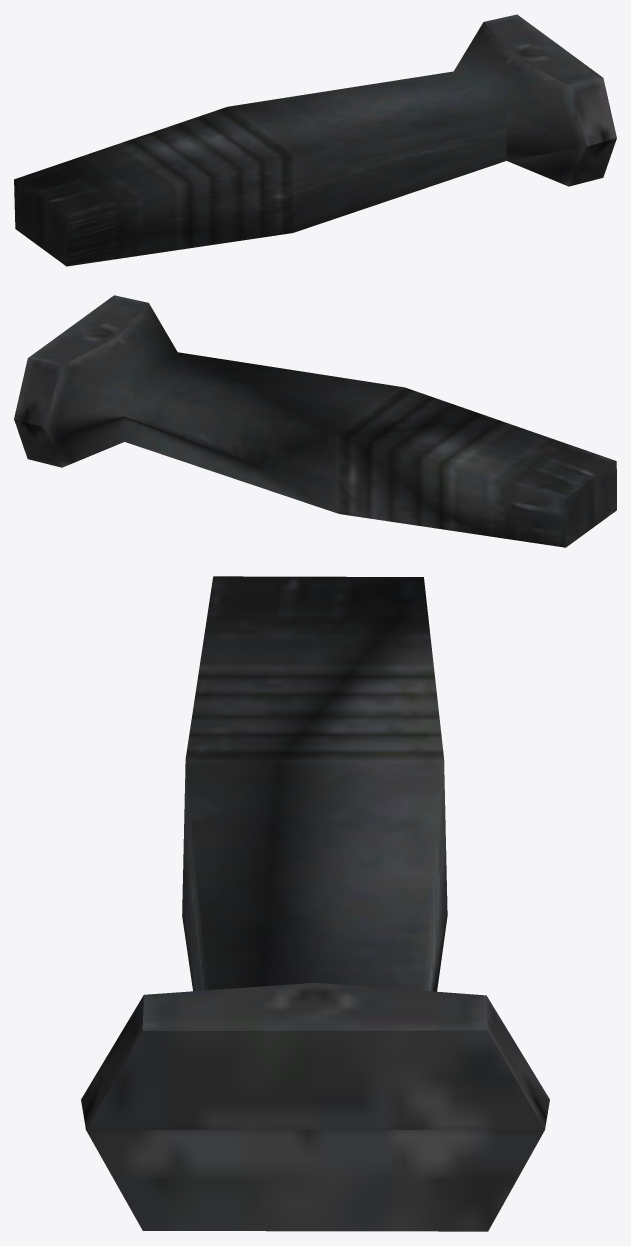
The model's file is Pickup_WeaponQt02.glb.
3 renders of one model, top to bottom at view 1: azimuth 30°, elevation 25°; view 2: azimuth 150°, elevation 25°; view 3: azimuth 270°, elevation 25°, orthographic. The views are drawn at different scales.
Visible parts, largest first — view 1: pk_weapon_qt02; view 2: pk_weapon_qt02; view 3: pk_weapon_qt02.
Part boxes in pixels (left/top/right/bottom): pk_weapon_qt02: left=14, top=14, right=616, bottom=266; pk_weapon_qt02: left=14, top=295, right=616, bottom=547; pk_weapon_qt02: left=81, top=576, right=549, bottom=1231.
Bounding box in the file's own units: 0.2456 × 0.0464 × 0.0961.
Materials: 1 (1 with a texture image).
